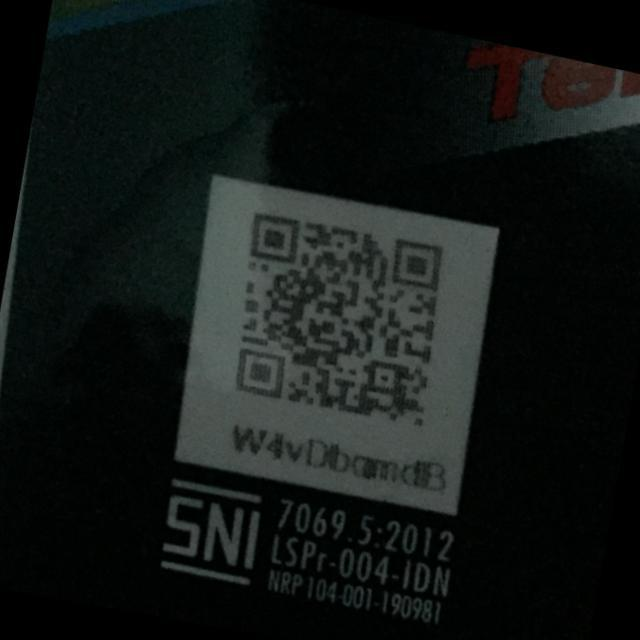QRCode: (186, 158, 406, 365)
